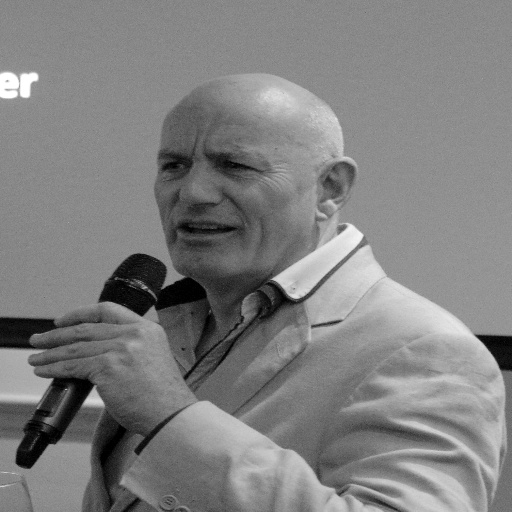hand: (16, 316, 172, 449)
